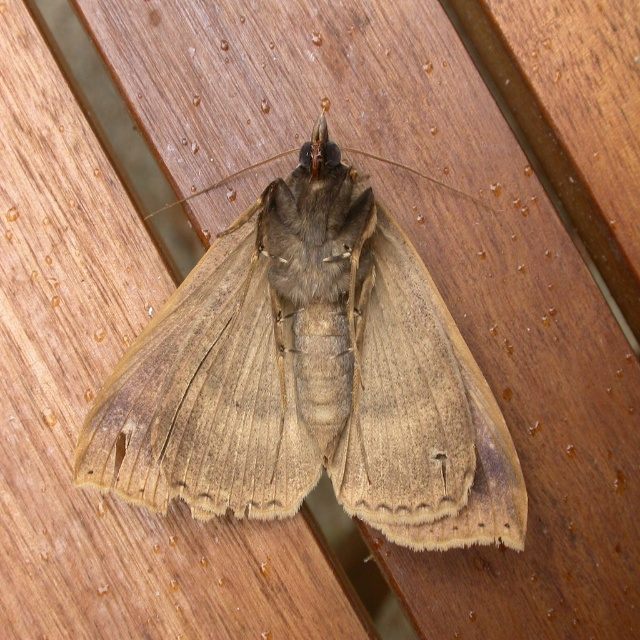Butterfly: (74, 109, 529, 551)
